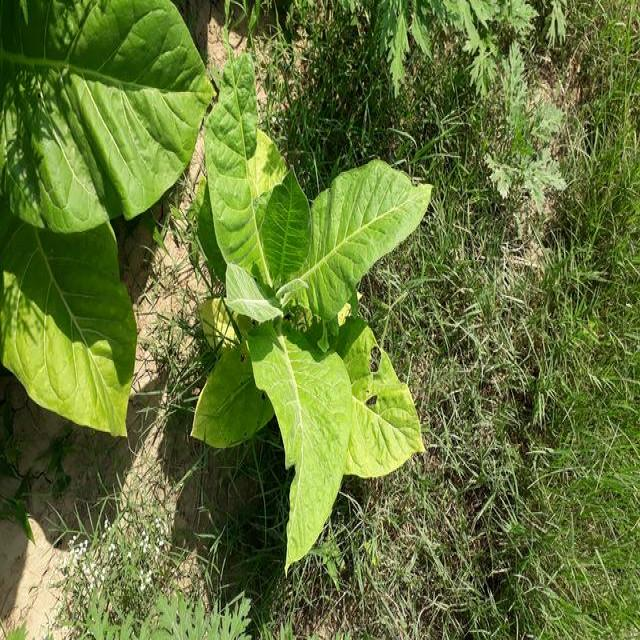crop: (195, 59, 436, 571)
